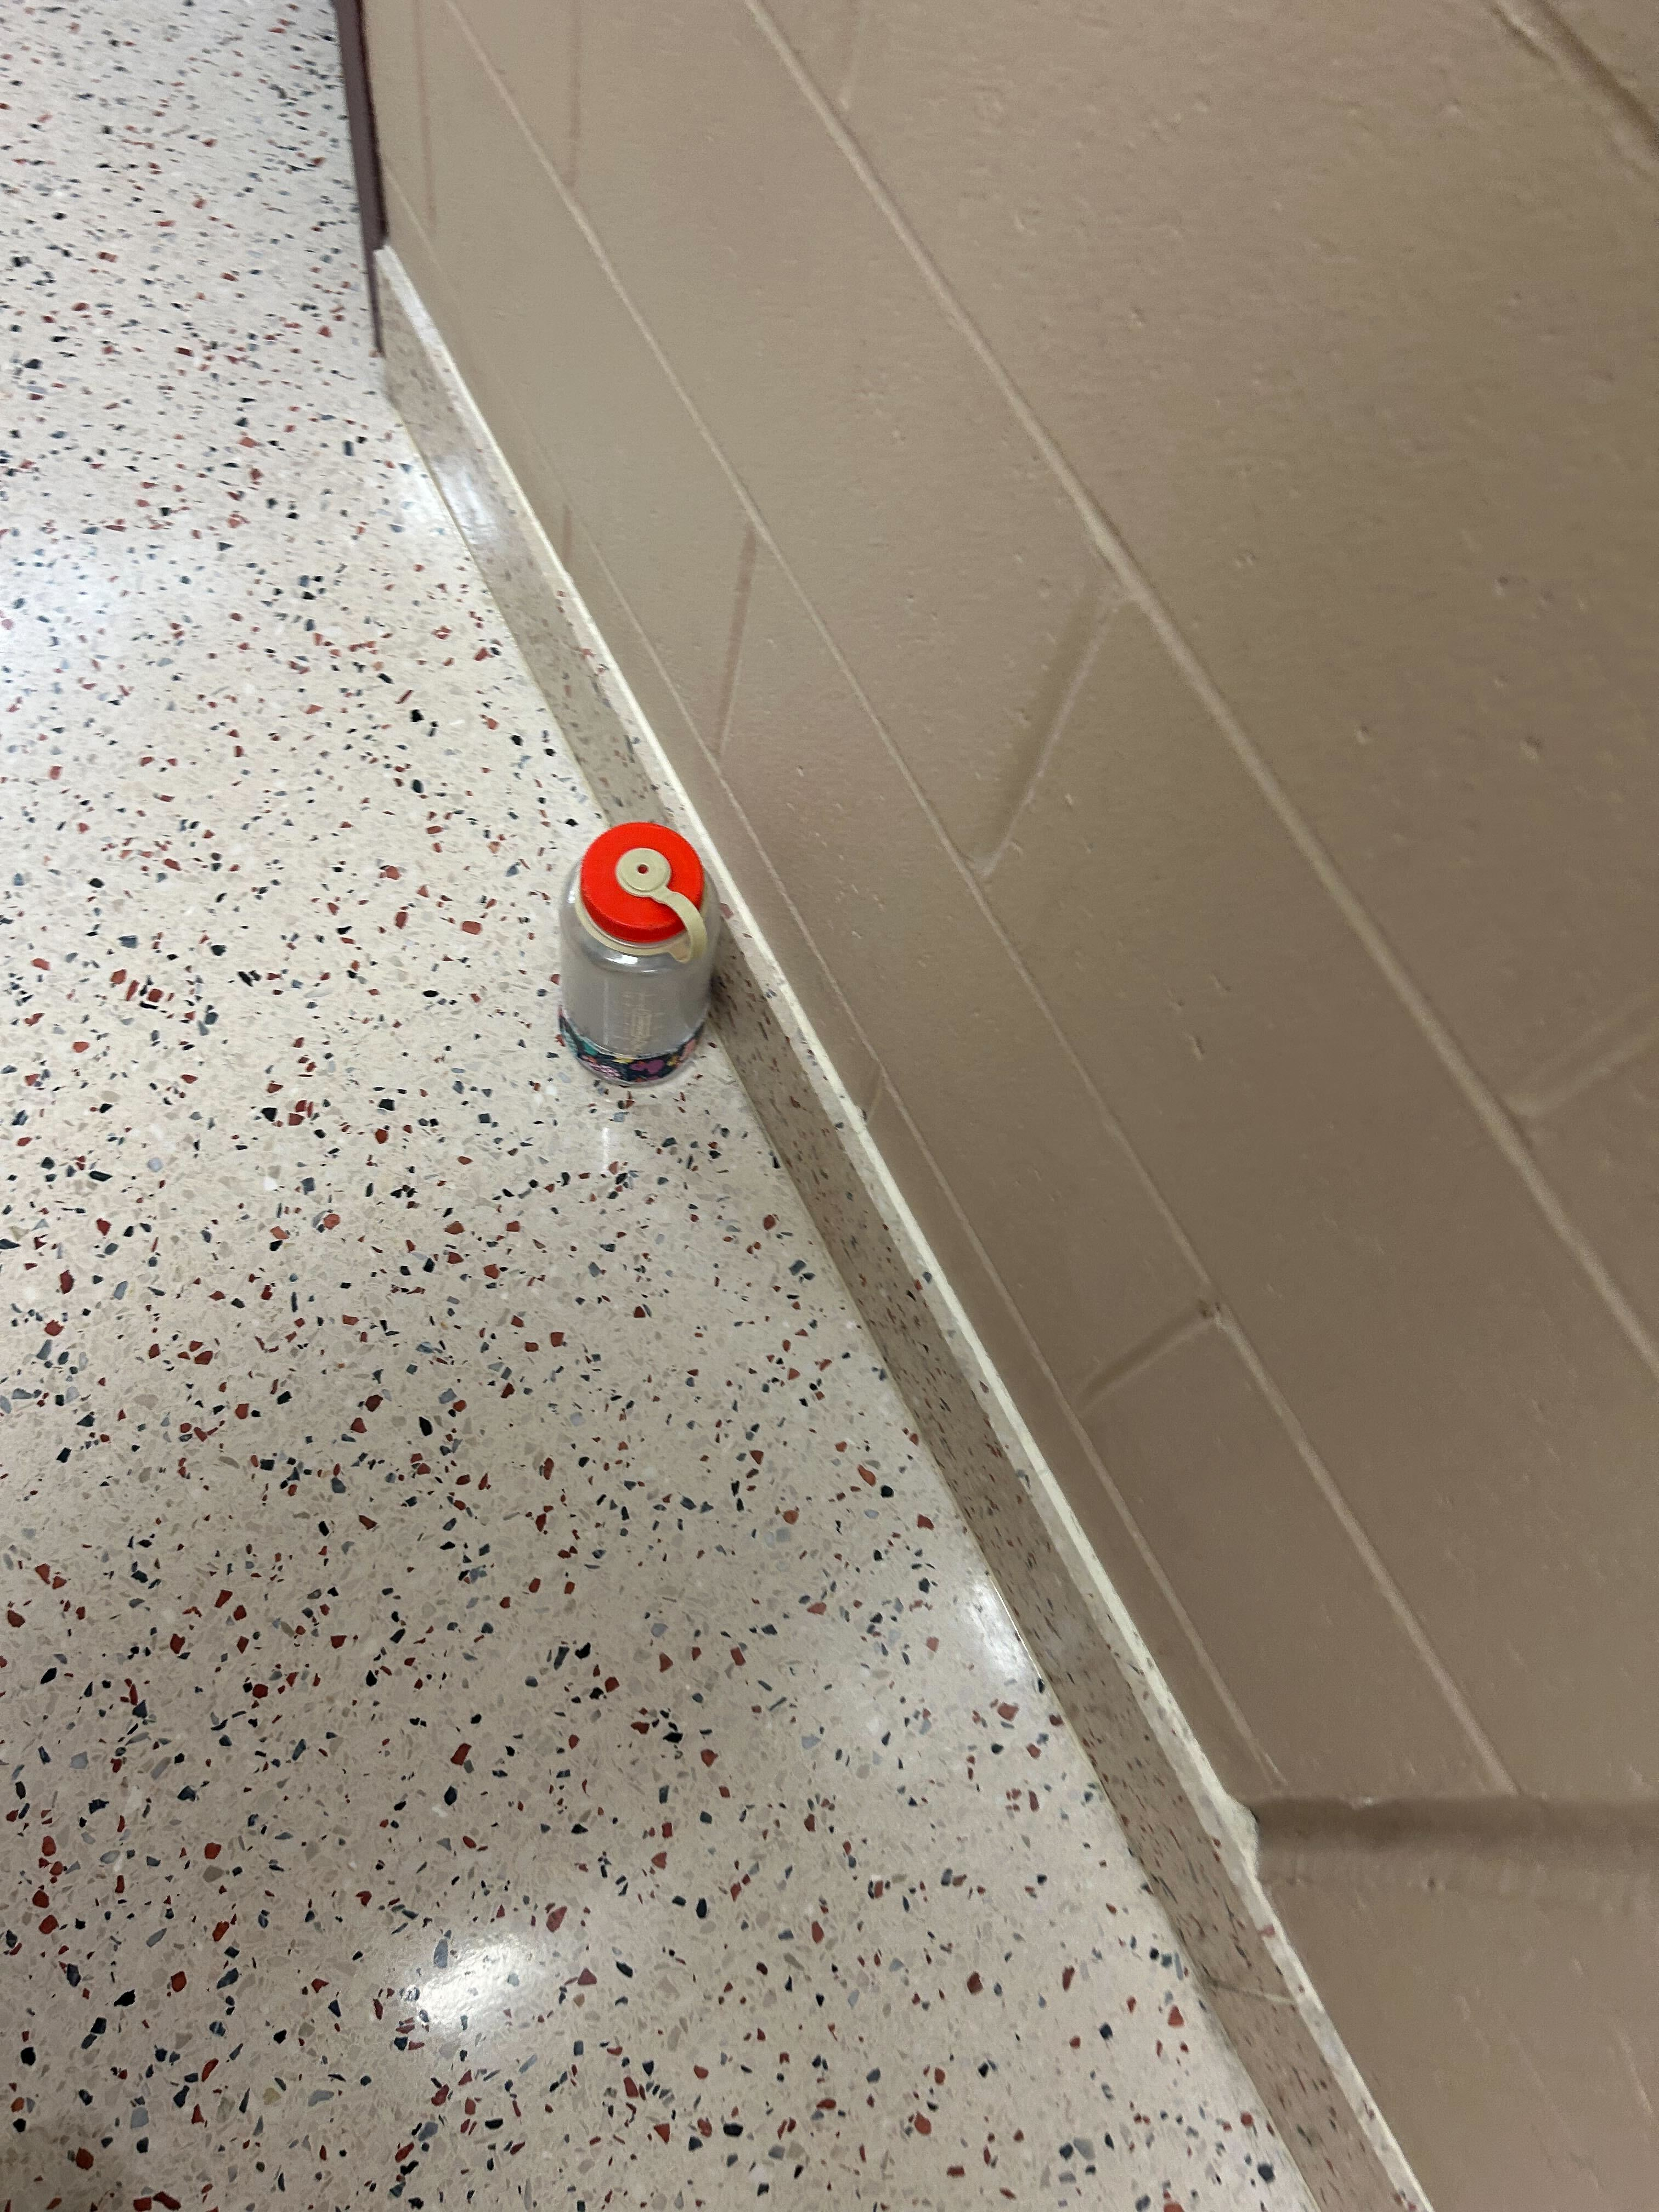bottle: (554, 808, 723, 1099)
